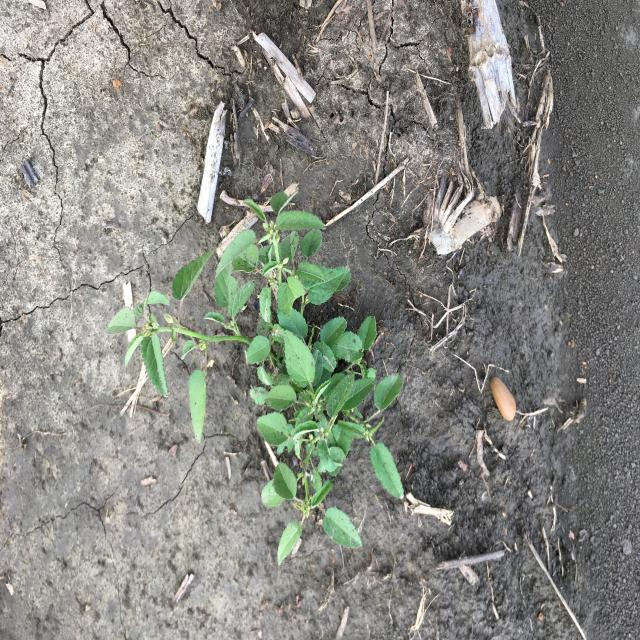PricklySida: (103, 188, 407, 571)
